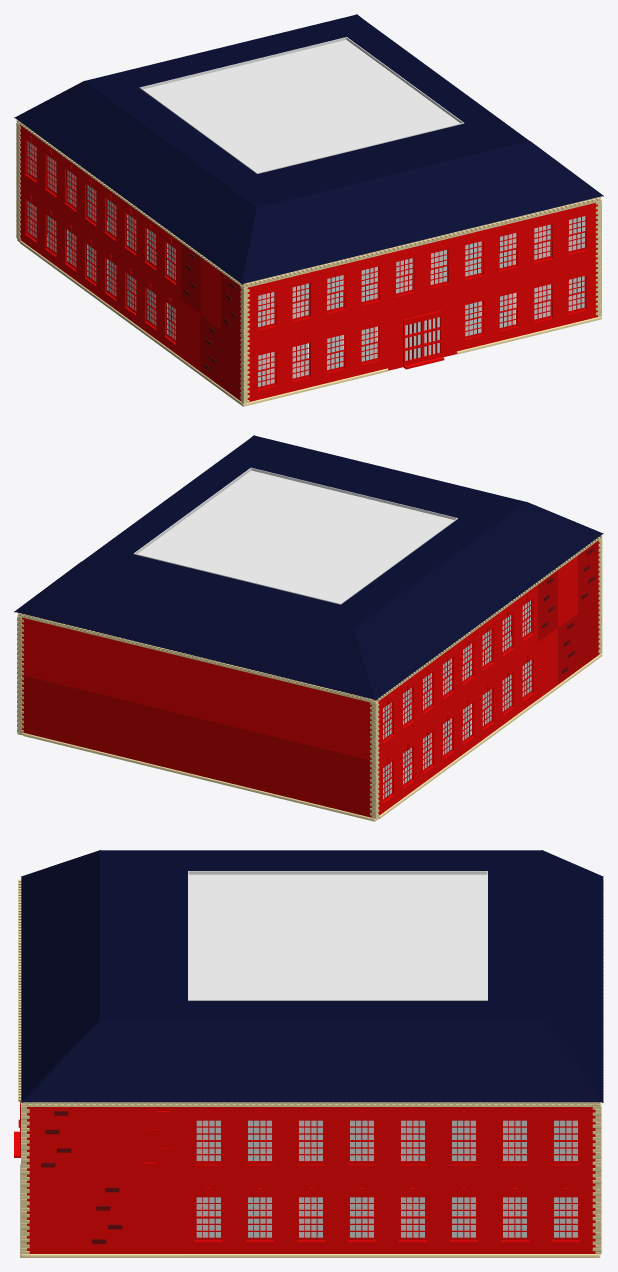
Rendered from PredioUm.fbx.
3 renders of one model, top to bottom at view 1: azimuth 30°, elevation 25°; view 2: azimuth 150°, elevation 25°; view 3: azimuth 270°, elevation 25°, orthographic. The views are drawn at different scales.
Parts seen in each view (by area): view 1: telhado.002, telhado.004, ParedeJanelaRodape.012, ParedeJanelaRodape.013, ParedeJanelaRodape.014, ParedeJanelaRodape.015, CortinaJanela.013, CortinaJanela.012, ParedeTetoMeio.016, CortinaJanela.015, CortinaJanela.014, ParedeLisaMeio.006 (+10 smaller); view 2: telhado.002, telhado.004, ParedeLisaMeio.008, ParedeLisaRodape.014, ParedeJanelaRodape.014, ParedeJanelaRodape.015, CortinaJanela.014, CortinaJanela.015, ParedeTetoMeio.023, RodapeParedeLisa.014, ParedeLisaMeio.006, ParedeLisaRodape.011 (+8 smaller); view 3: telhado.002, telhado.004, ParedeJanelaRodape.017, ParedeJanelaRodape.016, CortinaJanela.016, CortinaJanela.017, ParedeLisaMeio.007, ParedeTijoloMeio.010, ParedeLisaRodape.012, ParedeLisaRodape.013, ParedeTijoloMeio.011, ParedeTijoloRodape.005 (+7 smaller).
Boxes of the visible parts, left/top/right/bottom form: telhado.002: left=14, top=14, right=603, bottom=284; telhado.004: left=139, top=37, right=464, bottom=173; ParedeJanelaRodape.012: left=249, top=260, right=594, bottom=401; ParedeJanelaRodape.013: left=249, top=203, right=594, bottom=344; ParedeJanelaRodape.014: left=21, top=126, right=180, bottom=299; ParedeJanelaRodape.015: left=21, top=183, right=180, bottom=356; CortinaJanela.013: left=258, top=216, right=585, bottom=326; CortinaJanela.012: left=258, top=276, right=584, bottom=386; ParedeTetoMeio.016: left=249, top=198, right=595, bottom=286; CortinaJanela.015: left=28, top=201, right=175, bottom=339; CortinaJanela.014: left=28, top=141, right=175, bottom=279; ParedeLisaMeio.006: left=200, top=257, right=220, bottom=328; telhado.002: left=14, top=435, right=603, bottom=700; telhado.004: left=133, top=467, right=457, bottom=604; ParedeLisaMeio.008: left=24, top=618, right=369, bottom=759; ParedeLisaRodape.014: left=24, top=676, right=369, bottom=816; ParedeJanelaRodape.014: left=378, top=585, right=537, bottom=757; ParedeJanelaRodape.015: left=378, top=642, right=537, bottom=815; CortinaJanela.014: left=383, top=600, right=530, bottom=739; CortinaJanela.015: left=383, top=660, right=530, bottom=798; ParedeTetoMeio.023: left=23, top=614, right=369, bottom=701; RodapeParedeLisa.014: left=23, top=733, right=368, bottom=820; ParedeLisaMeio.006: left=558, top=555, right=577, bottom=627; ParedeLisaRodape.011: left=538, top=628, right=557, bottom=699; telhado.002: left=20, top=850, right=603, bottom=1102; telhado.004: left=188, top=871, right=487, bottom=1000; ParedeJanelaRodape.017: left=183, top=1180, right=591, bottom=1253; ParedeJanelaRodape.016: left=183, top=1107, right=591, bottom=1180; CortinaJanela.016: left=196, top=1120, right=577, bottom=1160; CortinaJanela.017: left=196, top=1197, right=577, bottom=1237; ParedeLisaMeio.007: left=81, top=1107, right=132, bottom=1180; ParedeTijoloMeio.010: left=132, top=1107, right=183, bottom=1180; ParedeLisaRodape.012: left=132, top=1180, right=183, bottom=1253; ParedeLisaRodape.013: left=30, top=1180, right=81, bottom=1253; ParedeTijoloMeio.011: left=30, top=1107, right=81, bottom=1180; ParedeTijoloRodape.005: left=81, top=1180, right=132, bottom=1253.
Bounding box in the file's own units: 3152 × 1379 × 3471.
